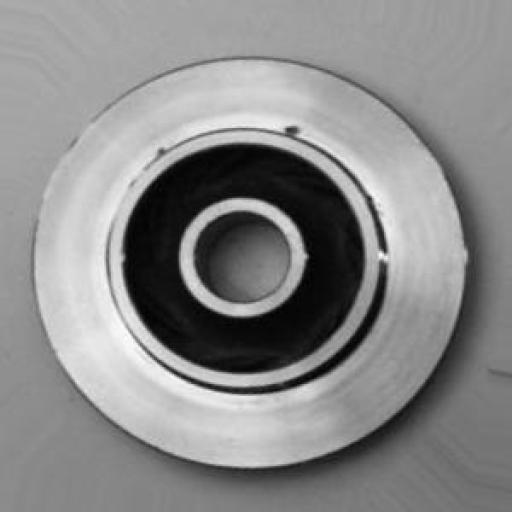defect: (126, 106, 335, 181)
